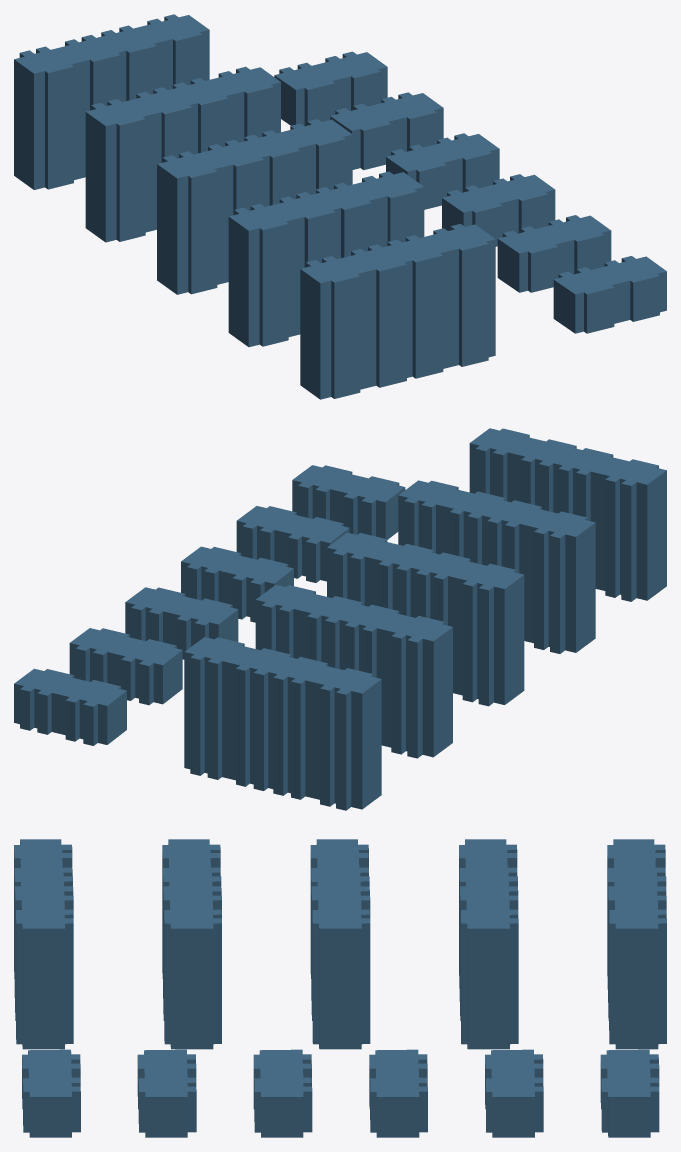
File: 科技氛围建筑_003.glb
3 views of the same model, one above another, from view 1: azimuth 30°, elevation 25°; view 2: azimuth 150°, elevation 25°; view 3: azimuth 270°, elevation 25° (orthographic). The views are drawn at different scales.
Parts seen in each view (by area): view 1: 科技氛围建筑_003; view 2: 科技氛围建筑_003; view 3: 科技氛围建筑_003.
Boxes of the visible parts, x1,y1,x2,y2 form: 科技氛围建筑_003: [14, 14, 666, 399]; 科技氛围建筑_003: [14, 428, 666, 810]; 科技氛围建筑_003: [14, 839, 666, 1137].
Size of the model in its own units: 67.34 by 21.31 by 105.
